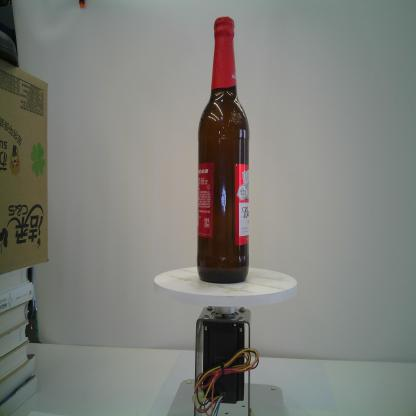Alcohol: (194, 13, 252, 286)
